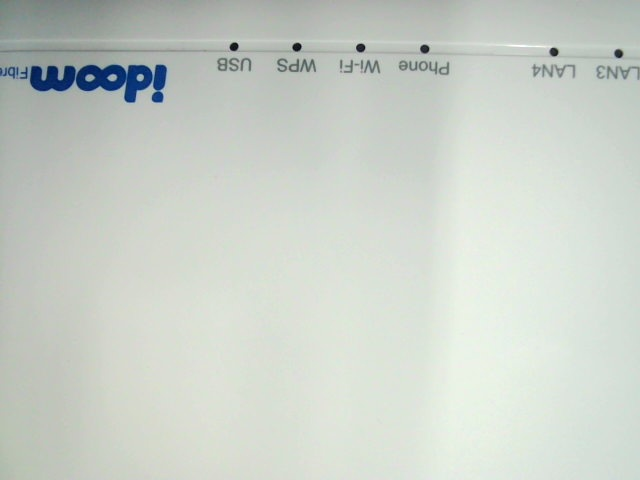BB_idoom: (3, 49, 170, 107)
